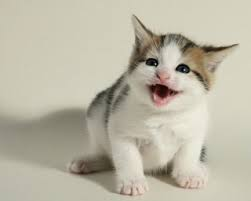Gato: (91, 9, 244, 189)
